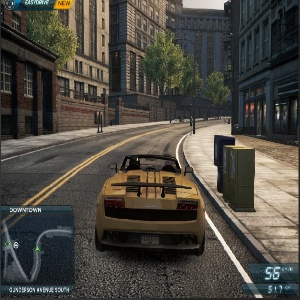building: (230, 3, 300, 137), (112, 1, 176, 121)
lamp post: (171, 38, 198, 135)
mailbox: (224, 144, 256, 214), (215, 135, 235, 193), (93, 110, 104, 132)
tree: (28, 9, 76, 88), (144, 30, 182, 110), (201, 69, 232, 118), (178, 53, 202, 116)
